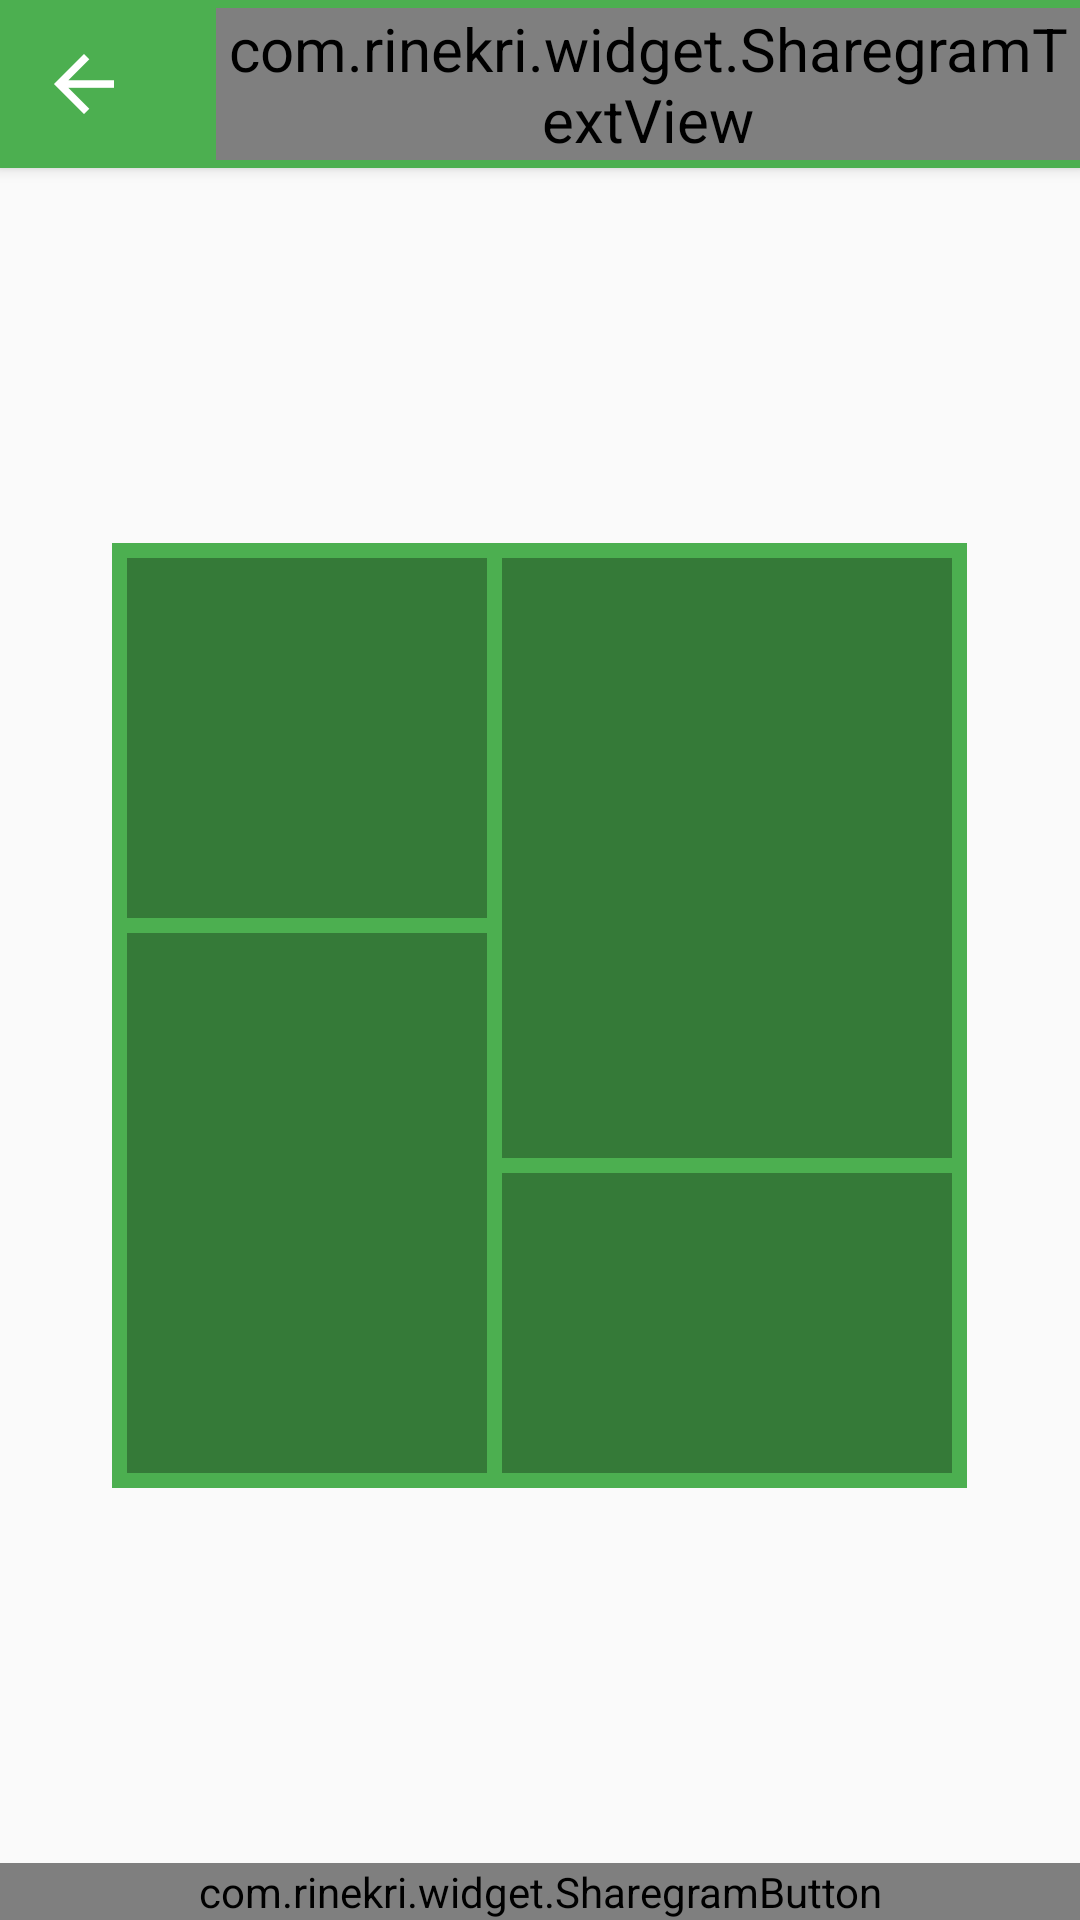

Icons on this 1080x1920 Android screen, each with its box as {"x1": x1, "y1": y1, "x2": x2, "y2": y2}:
Back to the Home: {"x1": 54, "y1": 54, "x2": 114, "y2": 114}
